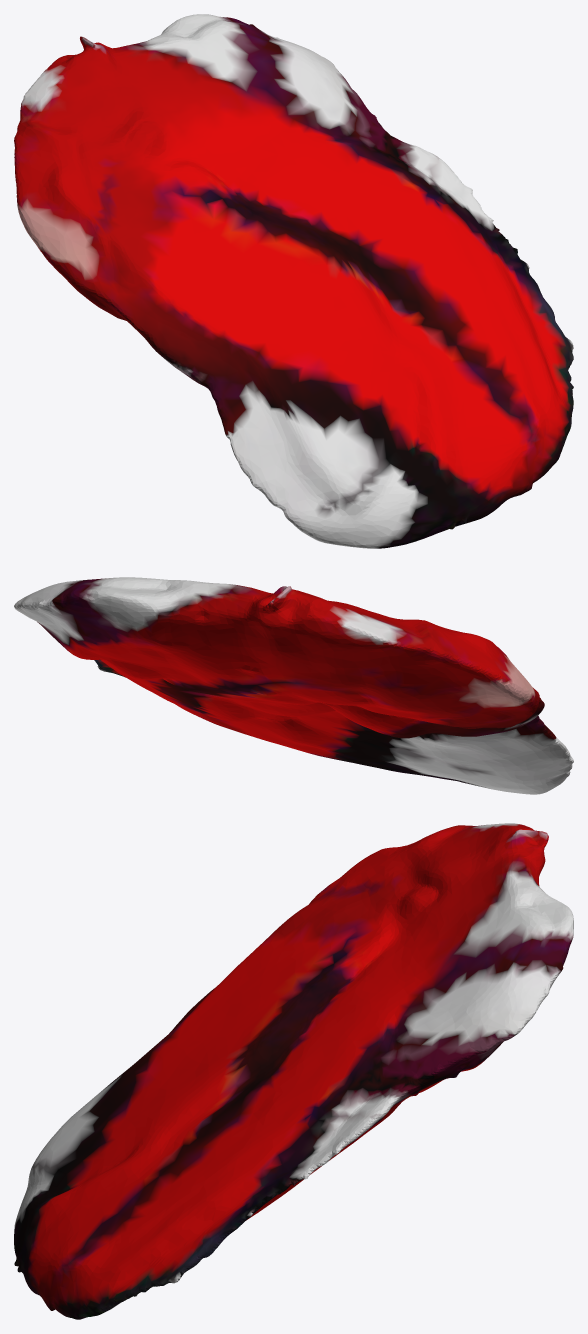
Rendered from tongue.glb.
3 renders of one model, top to bottom at view 1: azimuth 30°, elevation 25°; view 2: azimuth 150°, elevation 25°; view 3: azimuth 270°, elevation 25°, orthographic. The views are drawn at different scales.
Visible parts, largest first — view 1: geometry_0; view 2: geometry_0; view 3: geometry_0.
Part boxes in pixels (x1,y1,x2,y2): geometry_0: [14, 14, 573, 548]; geometry_0: [14, 577, 573, 794]; geometry_0: [14, 823, 573, 1319].
Bounding box in the file's own units: 0.5625 × 0.418 × 0.5611.
